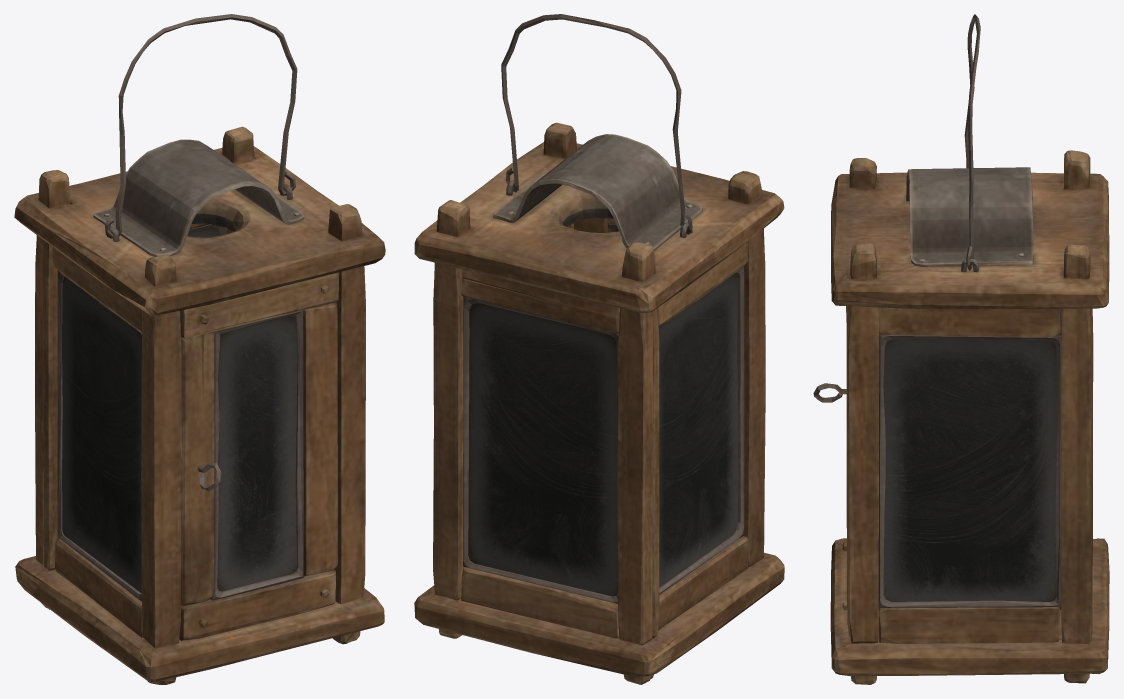
The model's file is wooden_lantern_01.glb.
The picture shows the model from 3 angles, left to right: view 1: azimuth 30°, elevation 25°; view 2: azimuth 150°, elevation 25°; view 3: azimuth 270°, elevation 25°; orthographic projection.
Visible parts, largest first — view 1: wooden_lantern_01; view 2: wooden_lantern_01; view 3: wooden_lantern_01.
Boxes of the visible parts, x1=… form: wooden_lantern_01: x1=14, y1=14, x2=385, y2=684; wooden_lantern_01: x1=414, y1=14, x2=784, y2=684; wooden_lantern_01: x1=813, y1=14, x2=1109, y2=684.
Bounding box in the file's own units: 0.2211 × 0.5296 × 0.2347.
Materials: 2 (2 with a texture image).
